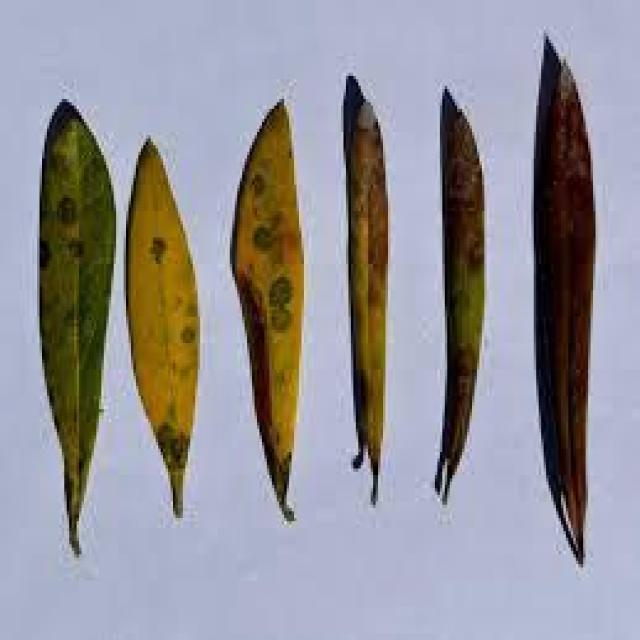OlivePeacockSpot: (40, 99, 114, 554), (230, 102, 302, 522), (124, 142, 196, 514), (435, 86, 482, 502), (346, 76, 383, 502)
